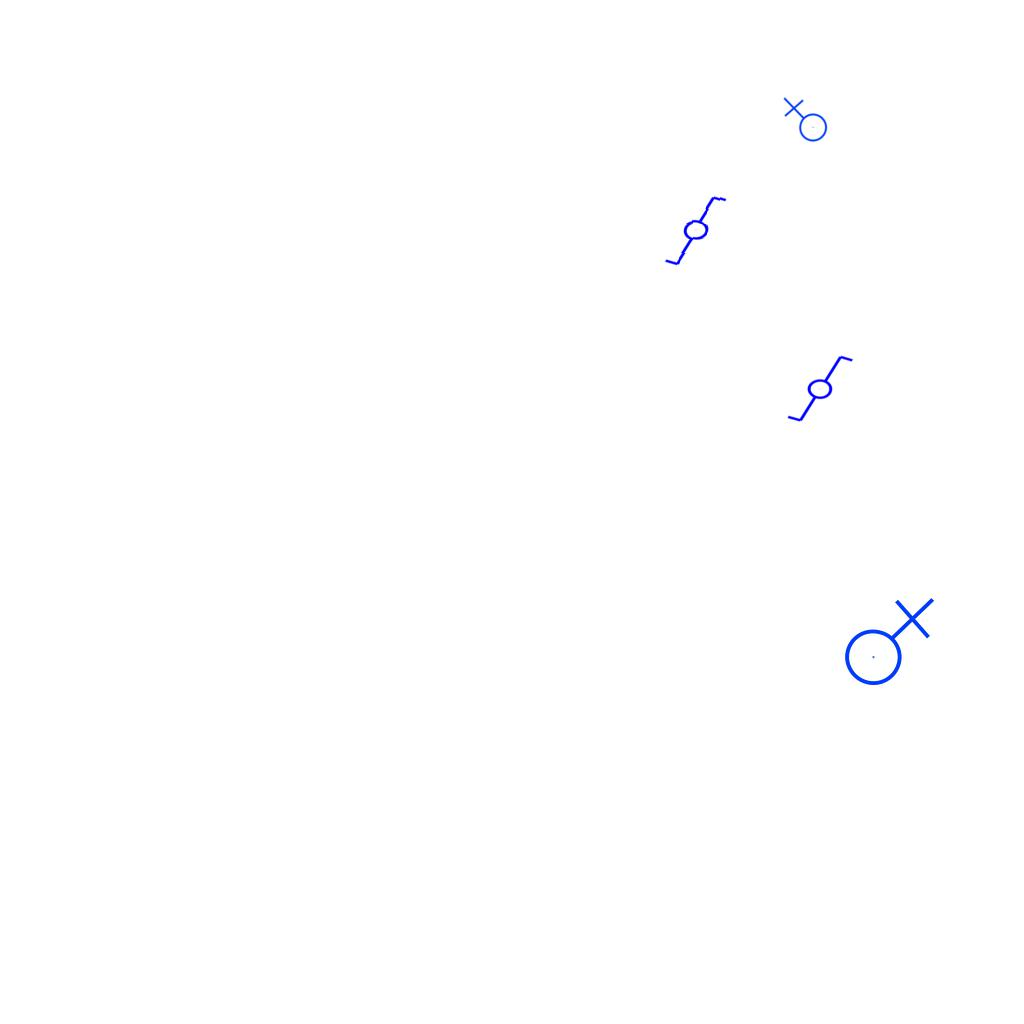Elektroanschluss_allgemein_230V_Geraeteanschlussdose_230V: (836, 593, 935, 687), (781, 97, 828, 146)
Wechselschalter: (658, 192, 742, 270), (777, 352, 855, 424)
